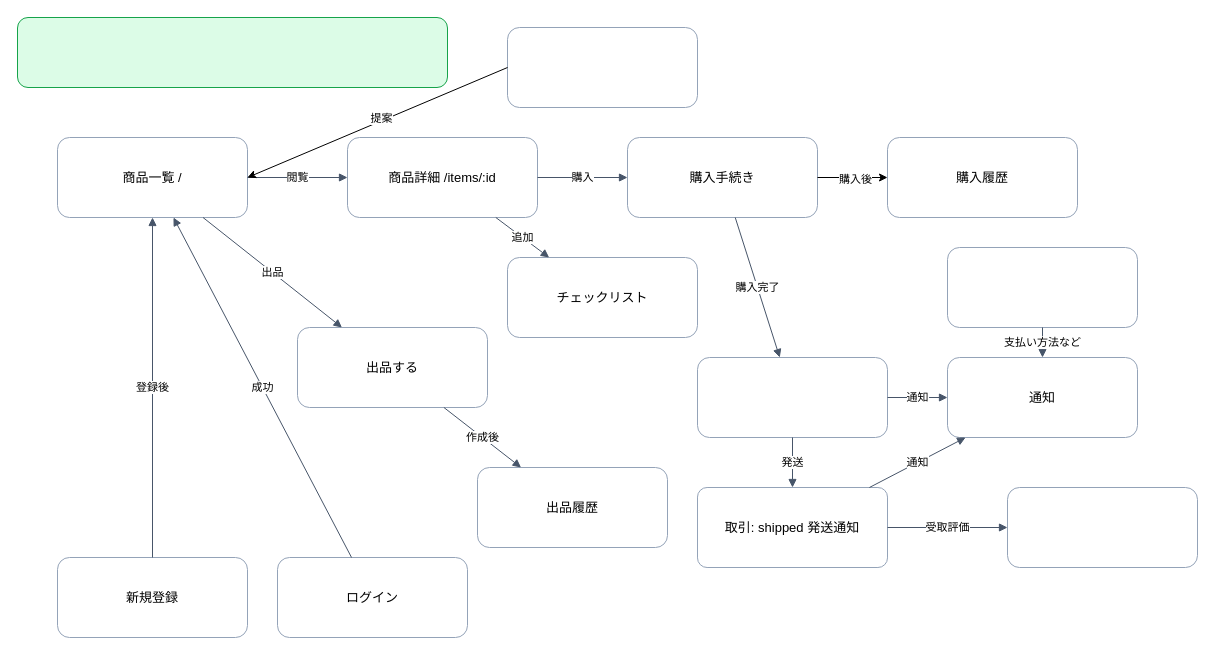
Image size: 1215x655. Some labels were removed from this diagram. The centre of each missing label's shape, as x and y in pixels:
"AI対話" belongs at (602,67).
"マイページ" belongs at (1042,287).
"取引: completed 出品者残高増" belongs at (1102,527).
"取引: paid 購入者残高減" belongs at (792,397).
"画面遷移図 ログイン前・ログイン後・取引状態を分離" belongs at (232,52).
